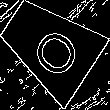O_NW: (19, 14, 80, 78)
